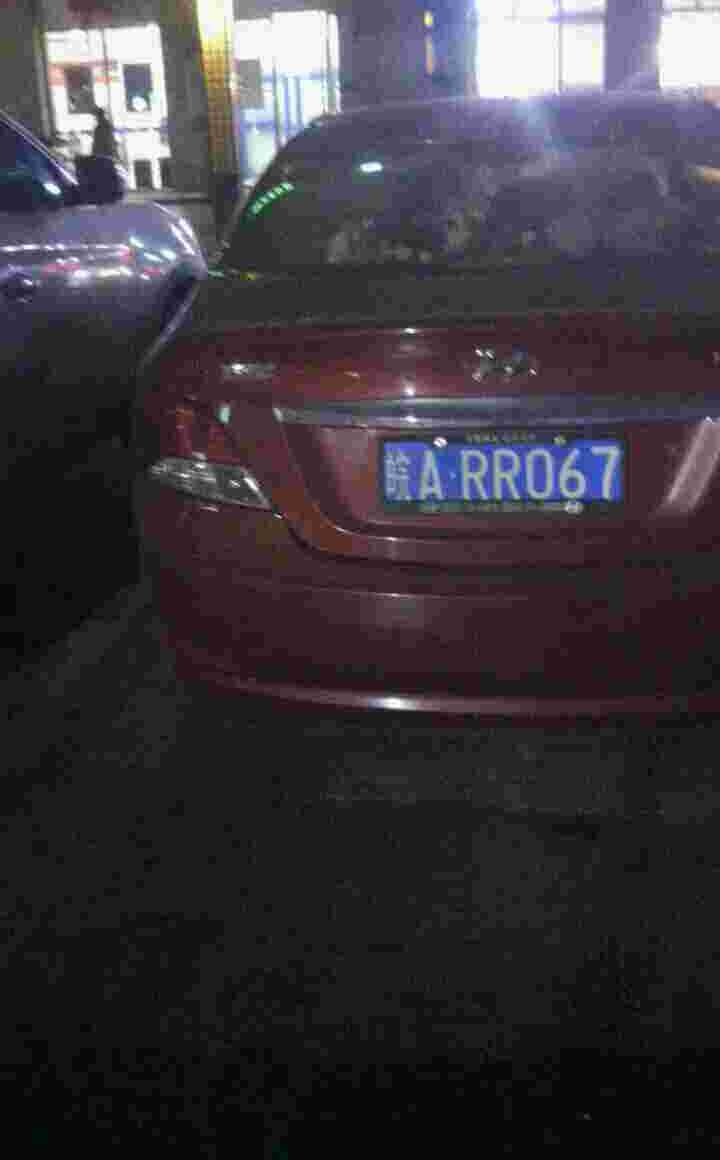license_plate: (388, 431, 625, 506)
